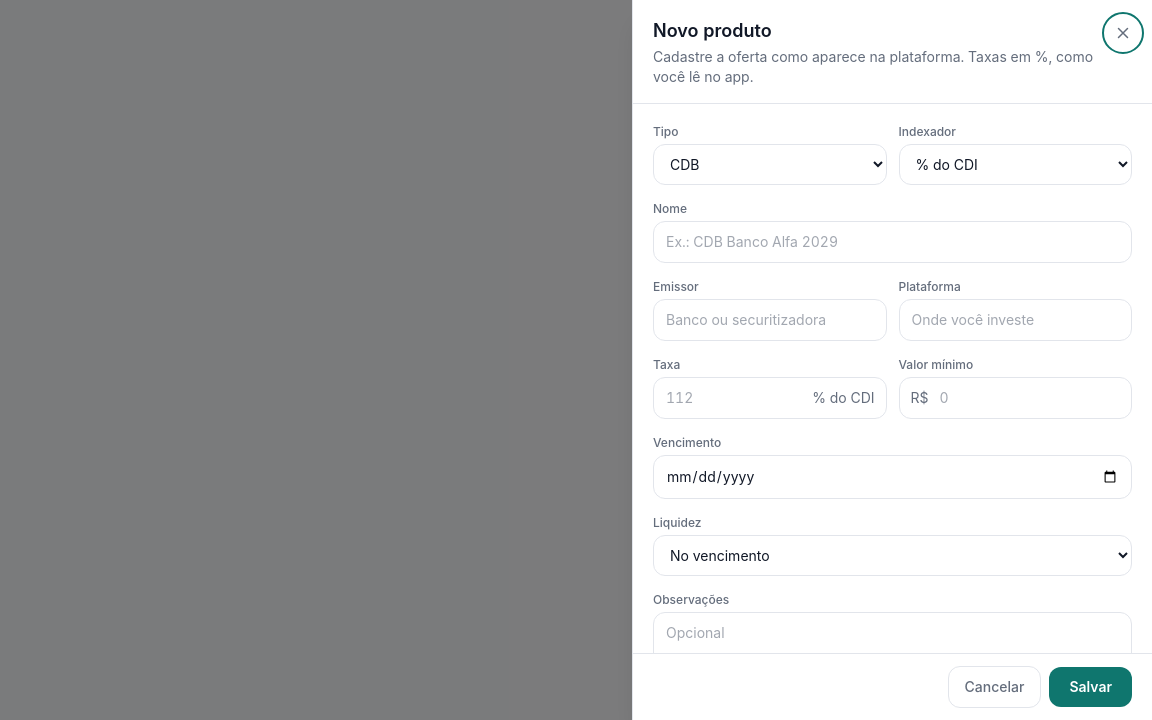
Diária após carência mostra Data de carência
Expected: the field labelled "Data de carência" is not shown
Select "Diária após carência" in the dropdown labelled "Liquidez": x=892, y=555 653,534 -> 1132,576
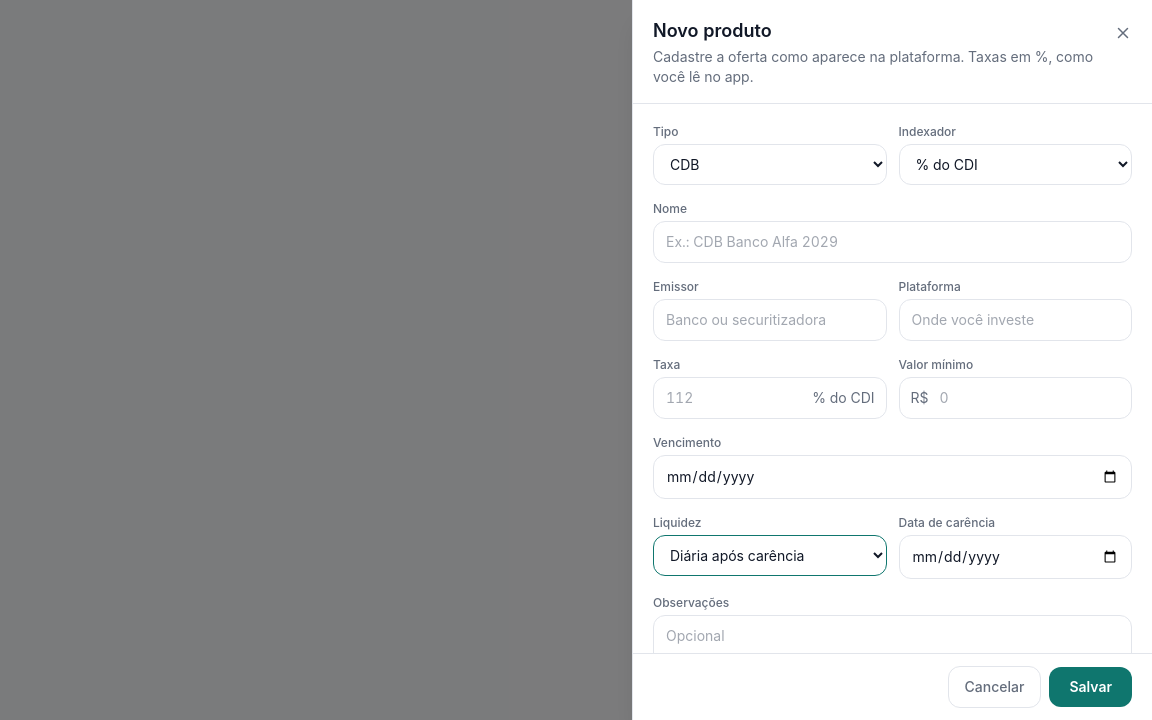
Expected: the date field labelled "Data de carência" is shown, 898,534 -> 1132,578
